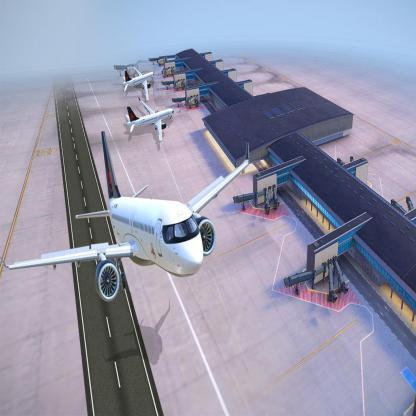CIV_Plane: (0, 125, 252, 303), (120, 101, 176, 140), (120, 65, 156, 101)
